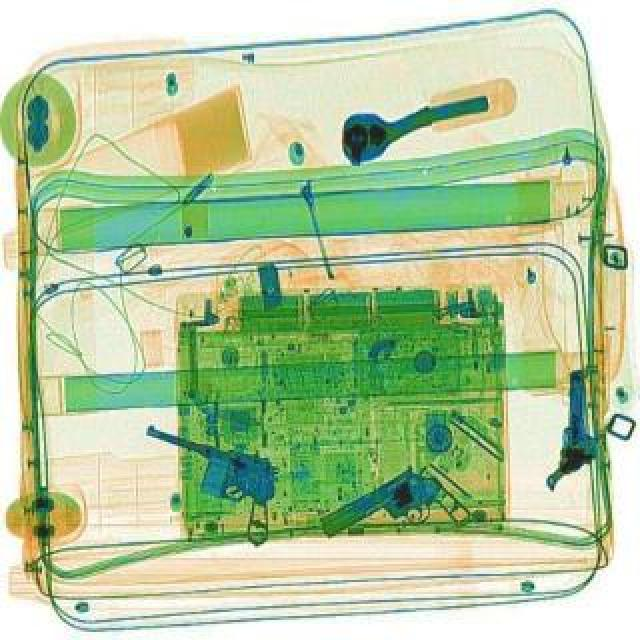gun: (114, 412, 298, 548), (314, 452, 474, 584), (544, 368, 596, 488)
